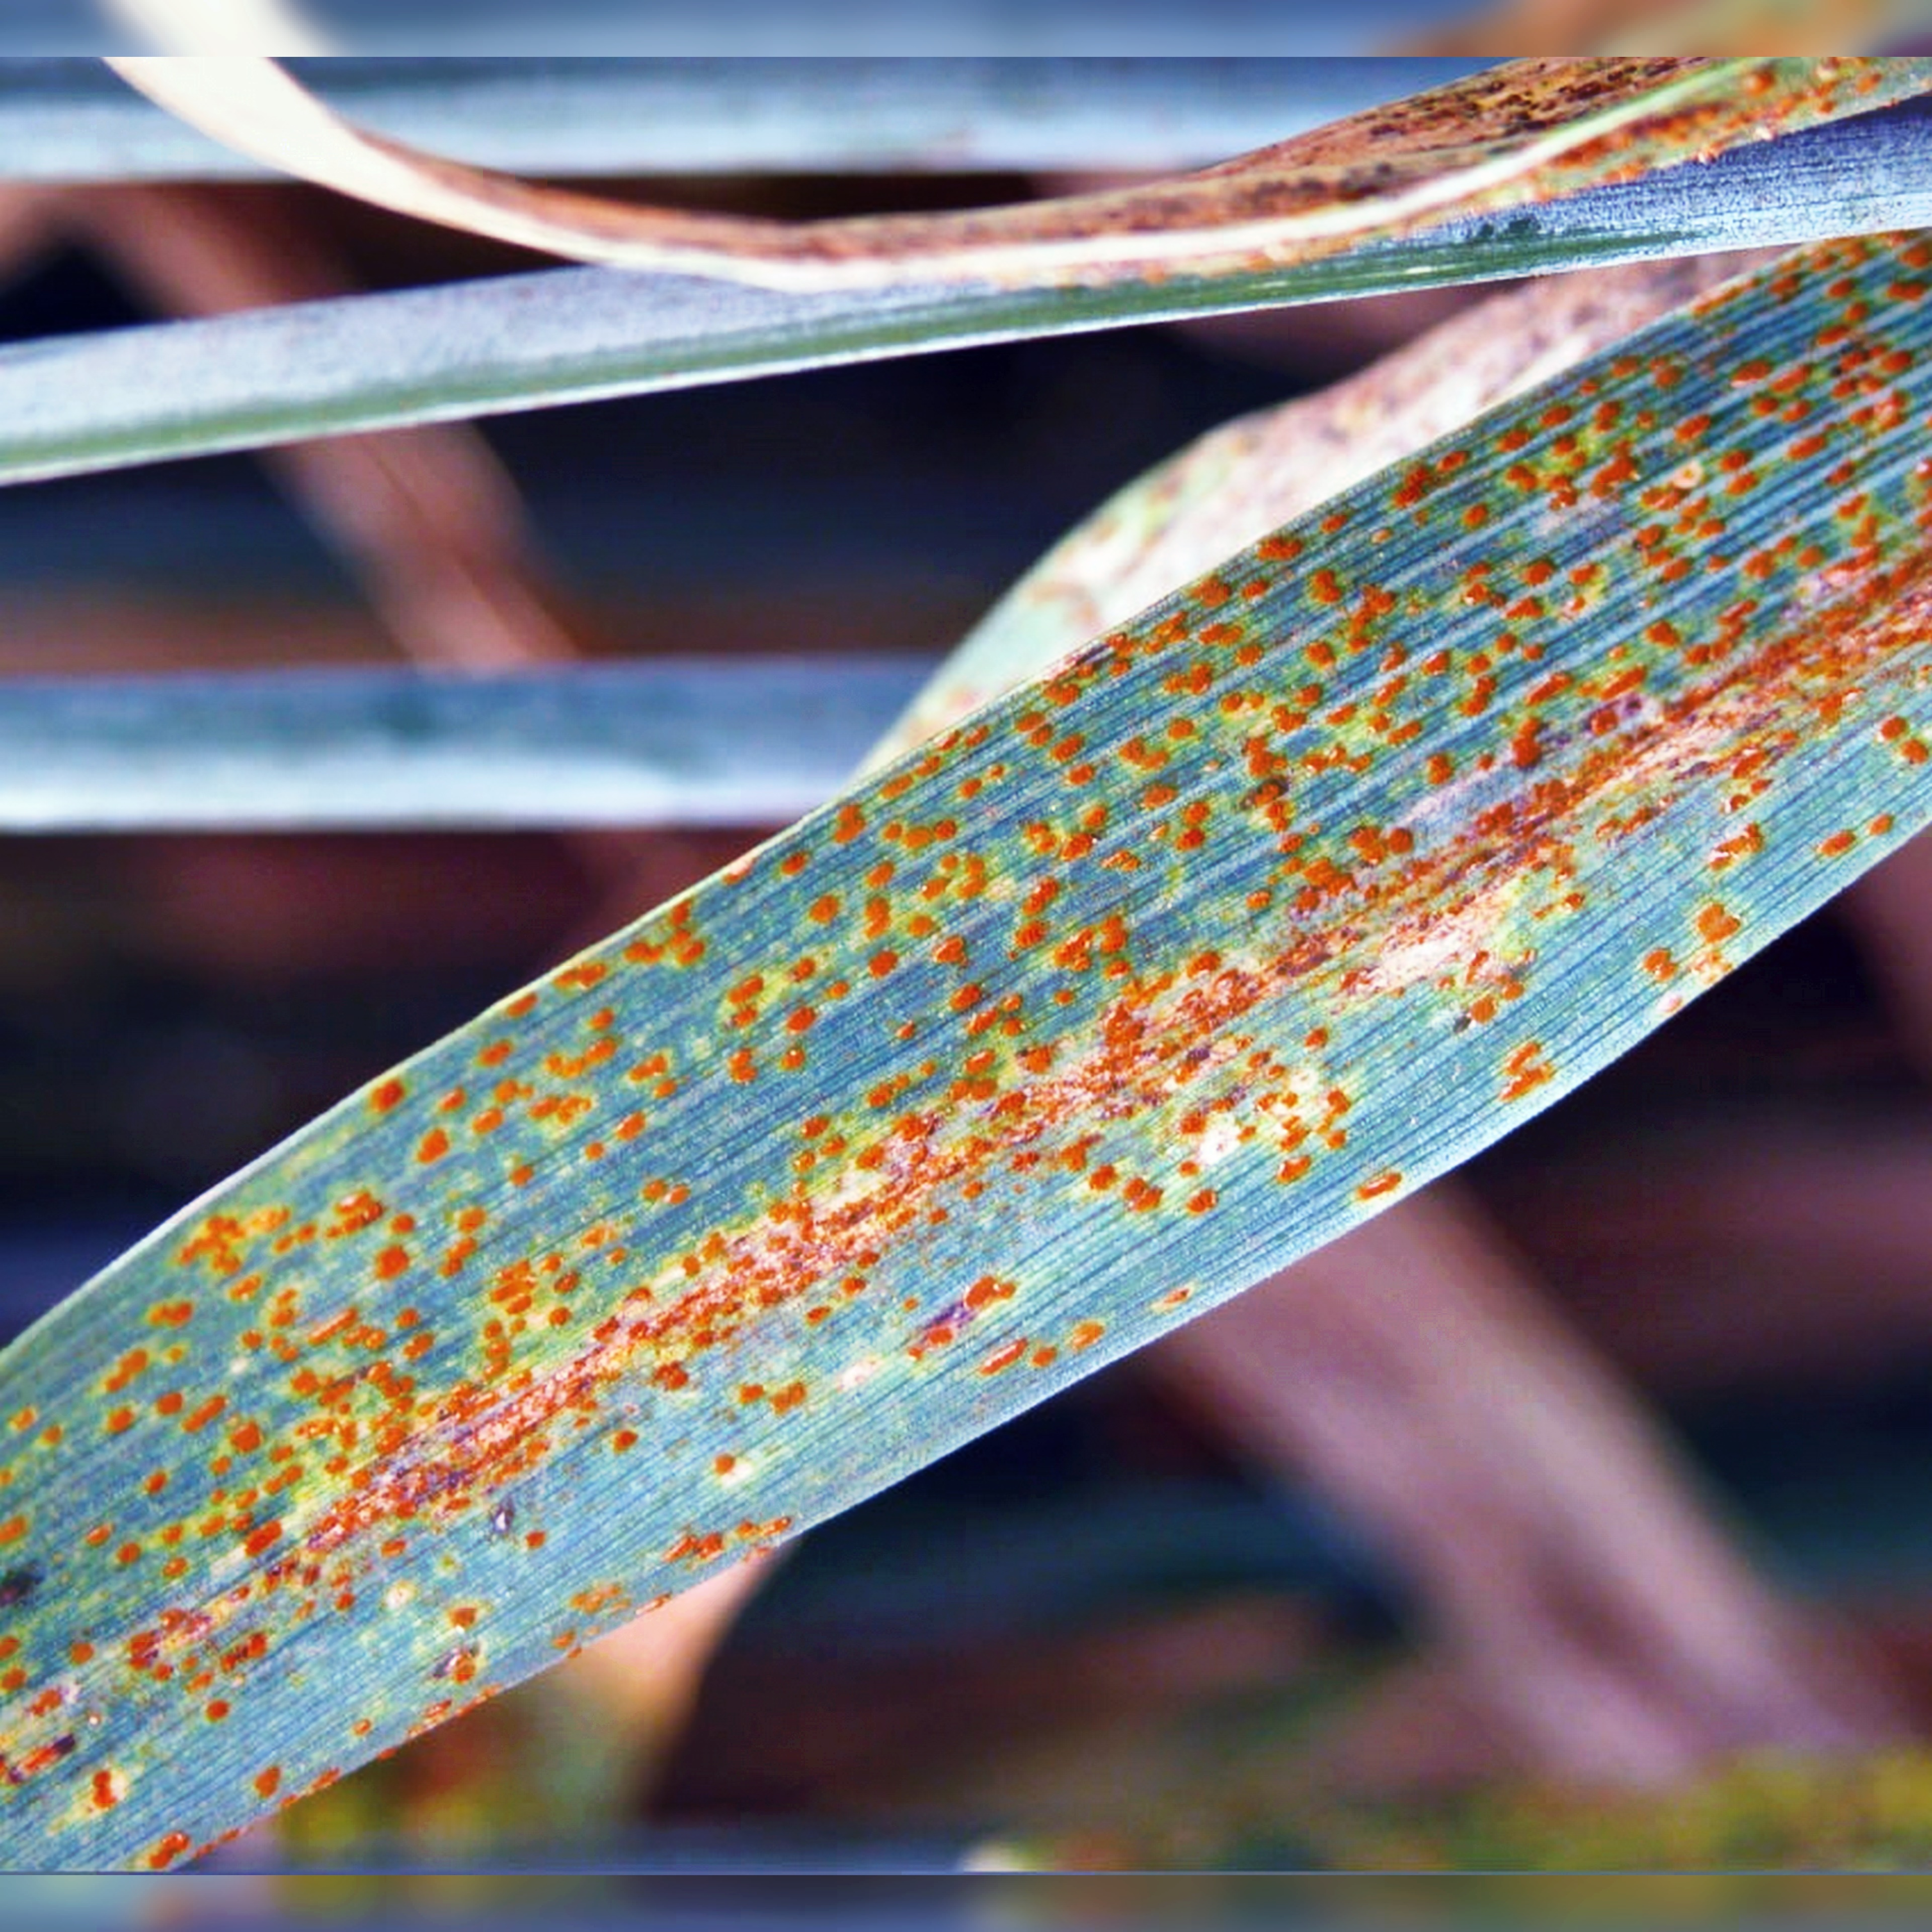Leaf Rust: (110, 326, 1932, 1752)
